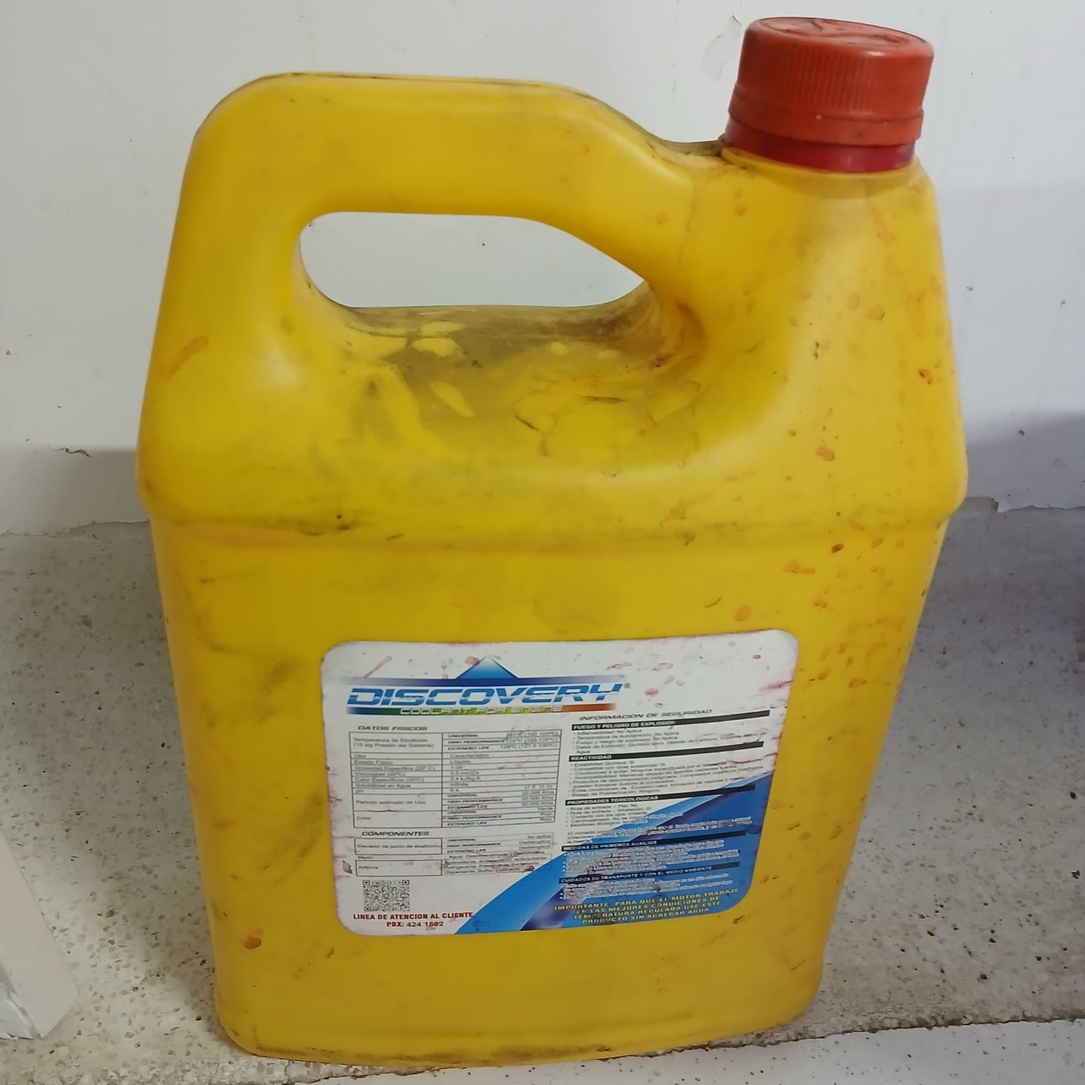Plastico: (138, 18, 970, 1061)
